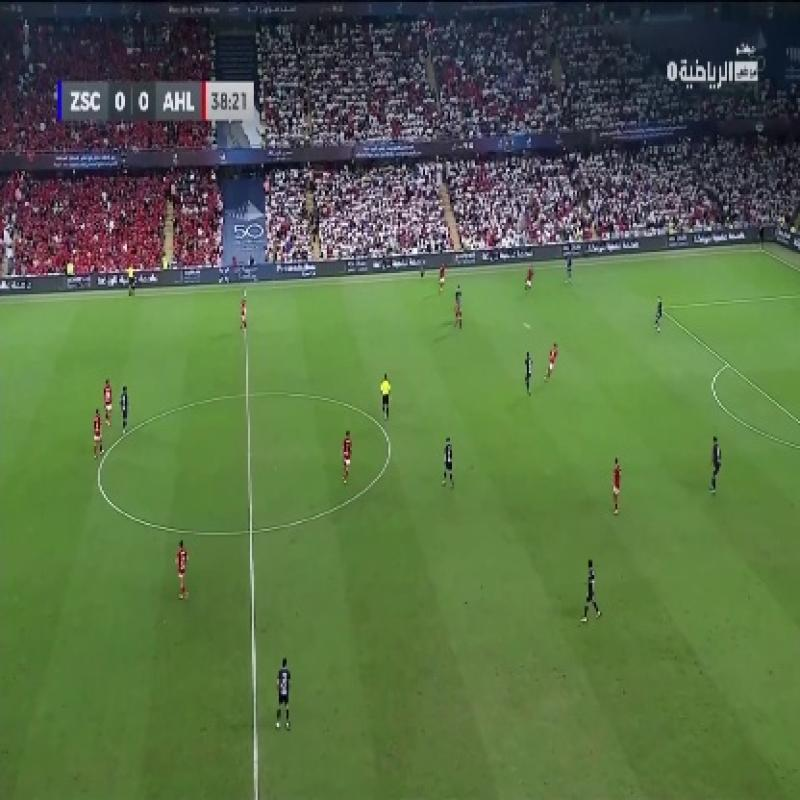1: (750, 243, 768, 256)
10: (719, 352, 734, 371)
13: (239, 282, 252, 297)
14: (233, 379, 260, 408)
15: (237, 514, 262, 544)
9: (656, 302, 670, 320)
c: (380, 430, 401, 456), (90, 467, 108, 494)
